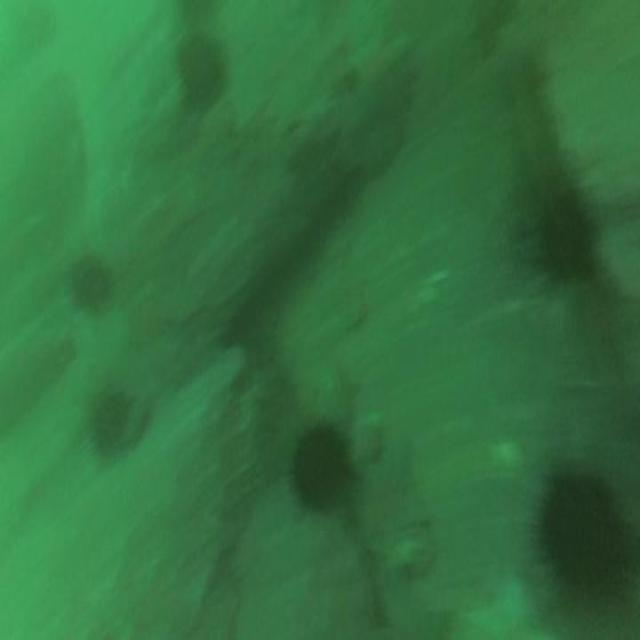echinus: (519, 442, 640, 626), (515, 163, 609, 303), (280, 408, 369, 534), (74, 368, 140, 465), (60, 236, 120, 326), (170, 27, 227, 115)
